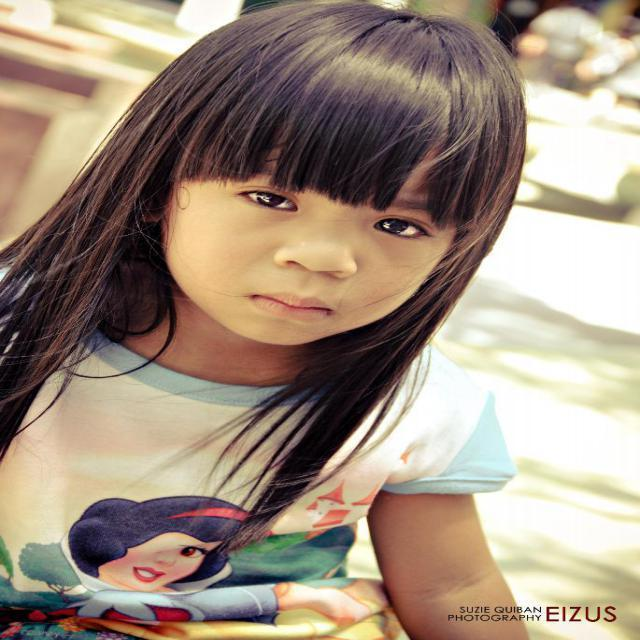closed-mouth: (245, 286, 346, 321)
